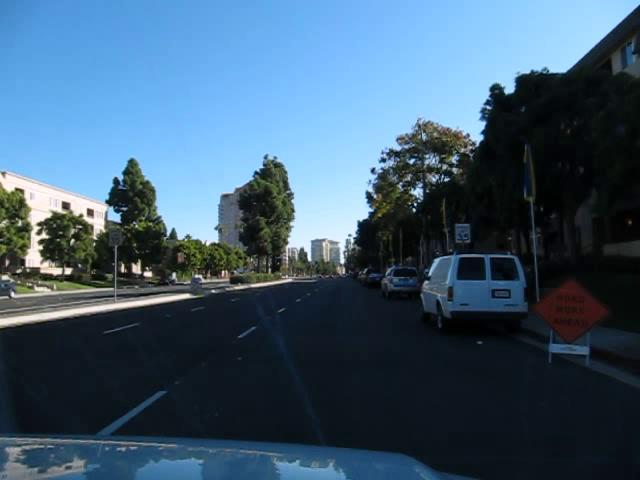speedLimit35: (453, 222, 470, 243)
